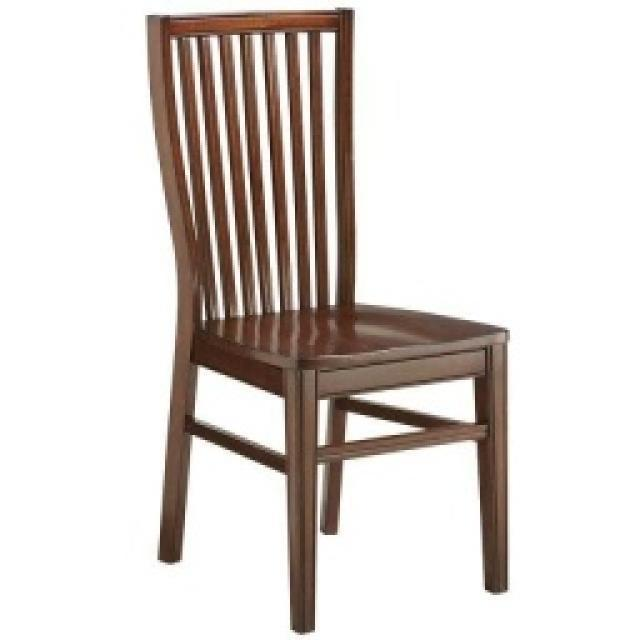sandalye: (145, 5, 510, 633)
